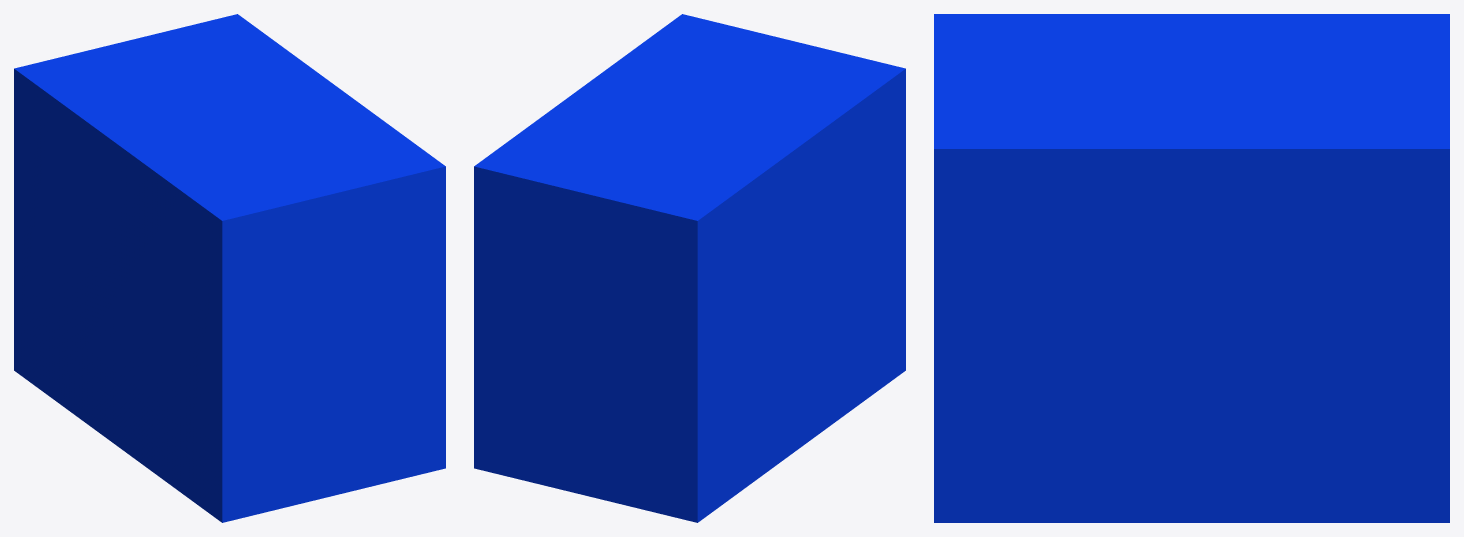
Rendered from wall_straight.glb.
The picture shows the model from 3 angles, left to right: view 1: azimuth 30°, elevation 25°; view 2: azimuth 150°, elevation 25°; view 3: azimuth 270°, elevation 25°; orthographic projection. The views are drawn at different scales.
Visible parts, largest first — view 1: wall_straight; view 2: wall_straight; view 3: wall_straight.
Boxes of the visible parts, x1,y1,x2,y2 form: wall_straight: (14, 14, 445, 522); wall_straight: (474, 14, 905, 522); wall_straight: (934, 14, 1449, 522).
Size of the model in its own units: 0.62 by 0.8 by 1.
